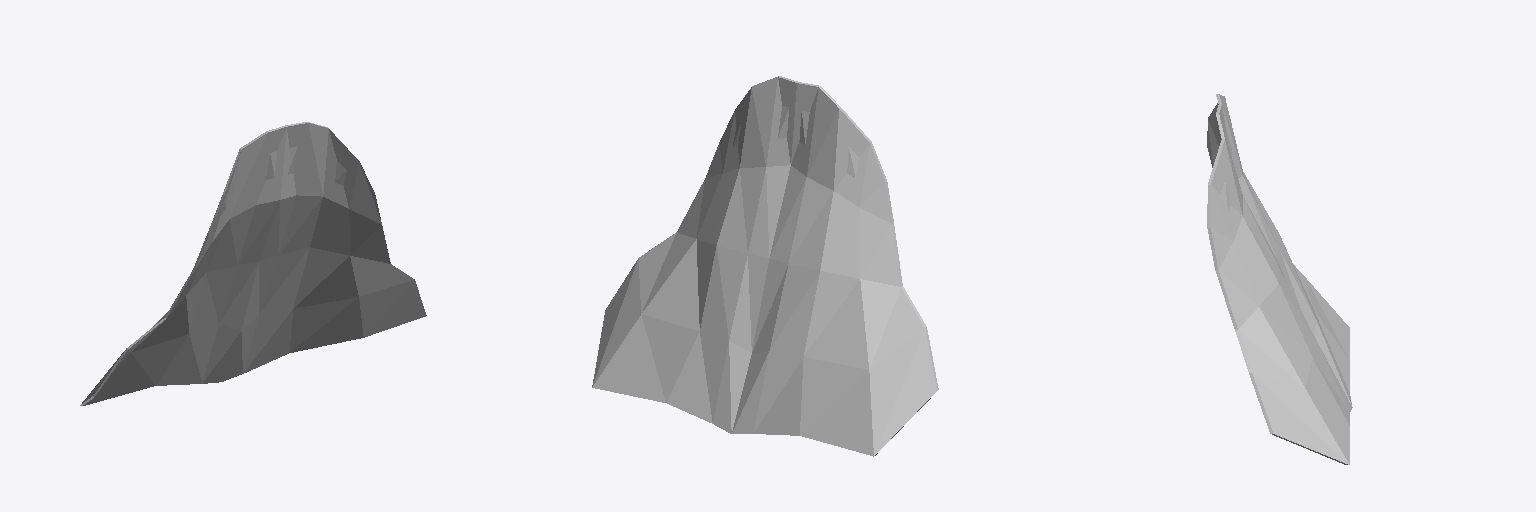
The model's file is Trapezius_Muscle-2.obj.
The picture shows the model from 3 angles: view 1: azimuth 30°, elevation 25°; view 2: azimuth 150°, elevation 25°; view 3: azimuth 270°, elevation 25°; orthographic projection.
Parts seen in each view (by area): view 1: pCube3; view 2: pCube3; view 3: pCube3.
Boxes of the visible parts, box(x1,y1,x2,y2) form: pCube3: box(80, 122, 426, 405); pCube3: box(592, 76, 938, 456); pCube3: box(1207, 94, 1352, 464).
Bounding box in the file's own units: 2.19 × 1.91 × 0.83.